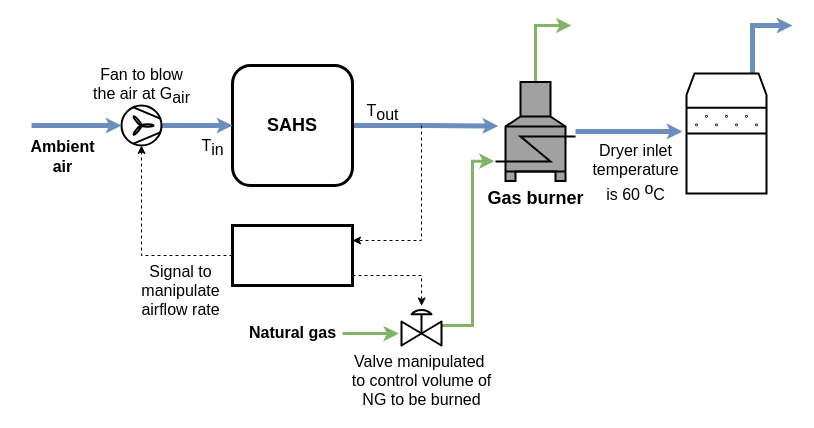
This 814x428 diagram has some shape labels left out. The centre of each missing label's shape, as x and y in pixels:
"Control System" belongs at (292,255).
"Dryer" belongs at (726,133).
